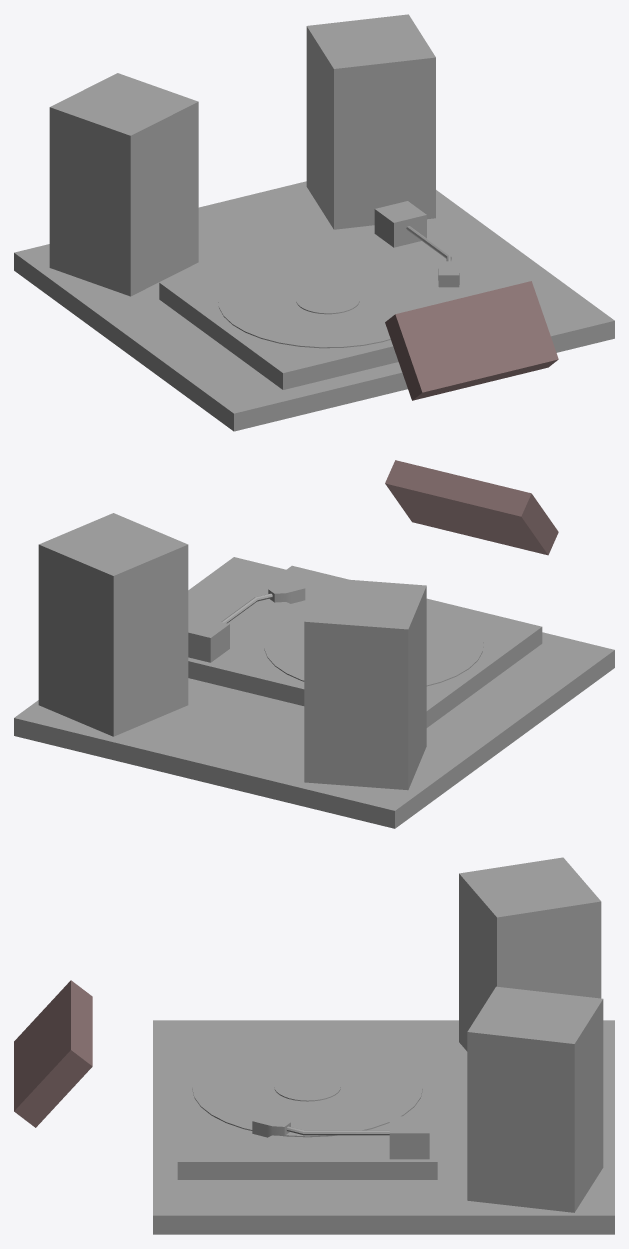
The model's file is RecordPlayer.fbx.
3 renders of one model, top to bottom at view 1: azimuth 30°, elevation 25°; view 2: azimuth 150°, elevation 25°; view 3: azimuth 270°, elevation 25°, orthographic. The views are drawn at different scales.
Parts seen in each view (by area): view 1: pCube12, pCube8; view 2: pCube12, pCube8; view 3: pCube12, pCube8.
Boxes of the visible parts, <box> form: pCube12: <box>14,14,614,431</box>; pCube8: <box>406,226,459,287</box>; pCube12: <box>14,460,614,828</box>; pCube8: <box>221,581,305,623</box>; pCube12: <box>14,857,614,1234</box>; pCube8: <box>252,1113,389,1137</box>.
Bounding box in the file's own units: 115 × 51.71 × 150.
